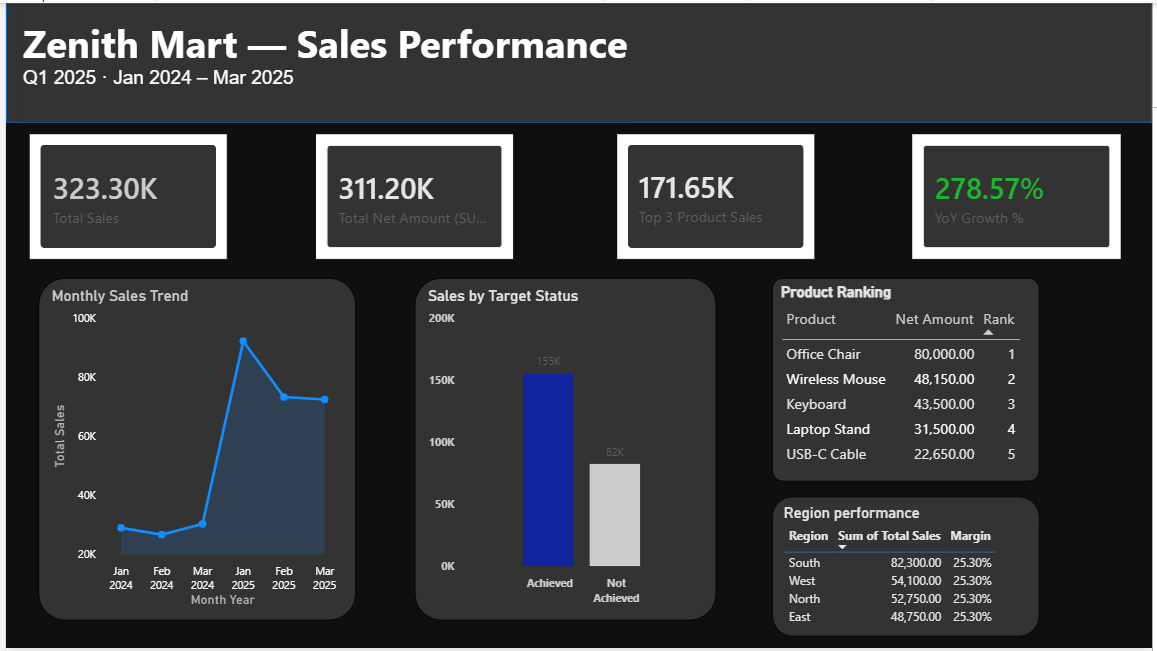

The dashboard page shown, as its layout file describes it:
{"tool":"powerbi","page":{"name":"Page 1","canvas":[1280,720],"ordinal":0},"visuals":[{"type":"clusteredColumnChart","title":" Sales by Target Status","fields":{"Category":["Sales_Summary_ByRegionCategory.Target Status"],"Y":["Sum(Sales_Summary_ByRegionCategory.Total Sales)"]},"box":[456.5,307.2,336.5,382.5],"z":0},{"type":"shape","box":[0,0,1280.3,133.6],"z":2000},{"type":"textbox","box":[13.4,10.4,687.8,123.6],"z":3000},{"type":"lineChart","title":"Monthly Sales Trend","fields":{"Category":["Calendar.Month Year"],"Y":["Sales_AllMonths.Total Sales"]},"box":[36.3,307.2,354.6,382.5],"z":4000},{"type":"tableEx","title":"Product Ranking","fields":{"Values":["productMaster_Full.ProductName","Sales_AllYears.Total Net Amount (SUMX)","productMaster_Full.Product Sales Rank (Dense)"]},"box":[855.8,307.2,298.8,227.6],"z":5000},{"type":"tableEx","title":"Region performance","fields":{"Values":["Sales_Summary_ByRegionCategory.Region","Sum(Sales_Summary_ByRegionCategory.Total Sales)","Sales_AllMonths.Overall Margin %"]},"box":[855.8,551.5,298.8,156.4],"z":6000},{"type":"cardVisual","fields":{"Data":["Sales_AllMonths.Total Sales"]},"box":[26.5,146.6,220.6,139.6],"z":7000},{"type":"cardVisual","fields":{"Data":["Sales_AllYears.Total Net Amount (SUMX)"]},"box":[346.2,146.6,220.6,139.6],"z":8000},{"type":"cardVisual","fields":{"Data":["productMaster_Full.Top 3 Product Sales"]},"box":[682.7,146.6,220.6,139.6],"z":9000},{"type":"cardVisual","fields":{"Data":["Calendar.YoY Growth %"]},"box":[1012.2,146.6,233.2,139.6],"z":10000}]}

Visuals, with their boxes in screenshot pixels (x1, y1, x2, y2), scaled from the page's 1280x720 canvas onto the 1157x651 screenshot:
" Sales by Target Status" clusteredColumnChart: bbox=(413, 278, 717, 624)
shape: bbox=(0, 0, 1156, 121)
textbox: bbox=(12, 9, 634, 121)
"Monthly Sales Trend" lineChart: bbox=(33, 278, 353, 624)
"Product Ranking" tableEx: bbox=(774, 278, 1044, 484)
"Region performance" tableEx: bbox=(774, 499, 1044, 640)
cardVisual - Sales_AllMonths.Total Sales: bbox=(24, 133, 223, 259)
cardVisual - Sales_AllYears.Total Net Amount (SUMX): bbox=(313, 133, 512, 259)
cardVisual - productMaster_Full.Top 3 Product Sales: bbox=(617, 133, 816, 259)
cardVisual - Calendar.YoY Growth %: bbox=(915, 133, 1126, 259)
